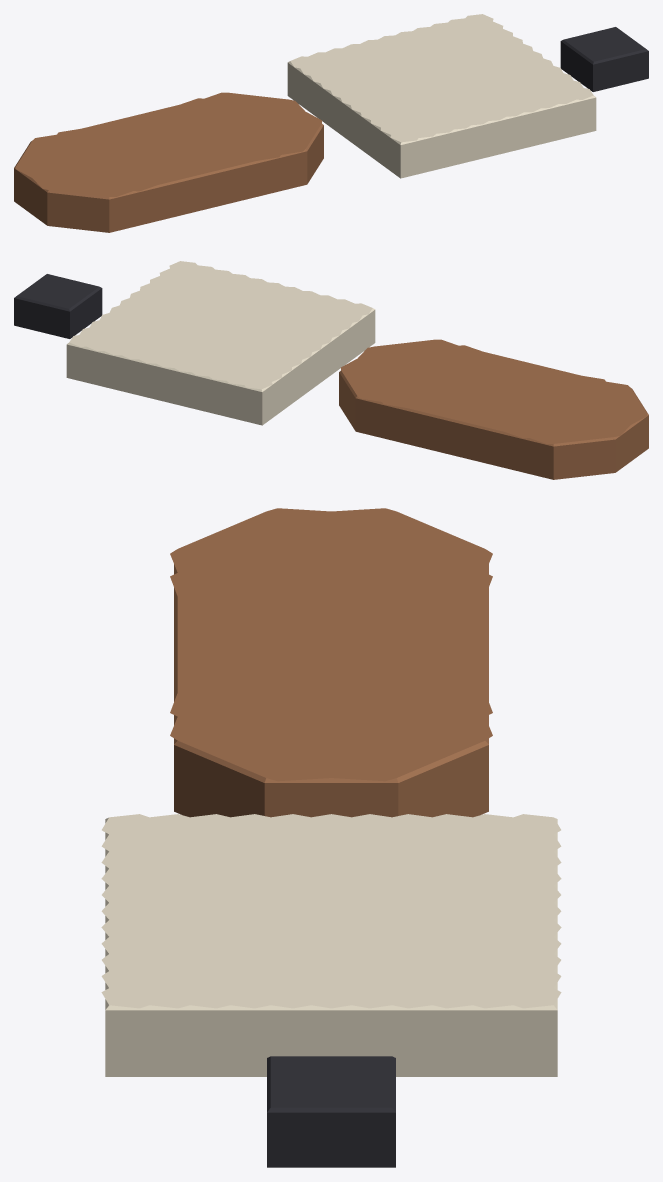
File: mahsulot.glb
3 views of the same model, one above another, from view 1: azimuth 30°, elevation 25°; view 2: azimuth 150°, elevation 25°; view 3: azimuth 270°, elevation 25° (orthographic). The views are drawn at different scales.
Parts seen in each view (by area): view 1: mahsulot_B, mahsulot_A, mahsulot_V; view 2: mahsulot_B, mahsulot_A, mahsulot_V; view 3: mahsulot_B, mahsulot_A, mahsulot_V.
Boxes of the visible parts, box(x1,y1,x2,y2) form: mahsulot_B: box(287, 14, 596, 178); mahsulot_A: box(14, 92, 323, 232); mahsulot_V: box(560, 27, 648, 91); mahsulot_B: box(66, 261, 375, 425); mahsulot_A: box(339, 339, 648, 479); mahsulot_V: box(14, 274, 102, 338); mahsulot_B: box(101, 814, 561, 1076); mahsulot_A: box(170, 508, 492, 817); mahsulot_V: box(267, 1056, 395, 1167).
Bounding box in the file's own units: 0.5395 × 0.03 × 0.178.
